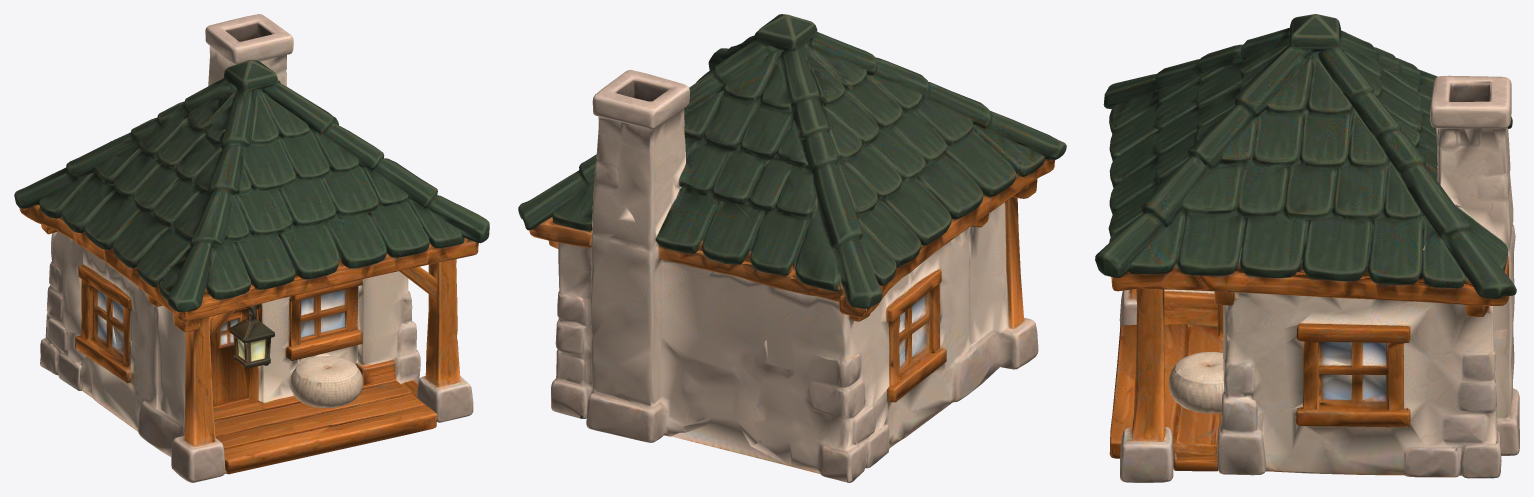
File: green_hip_cottage.glb
The picture shows the model from 3 angles, left to right: view 1: azimuth 30°, elevation 25°; view 2: azimuth 150°, elevation 25°; view 3: azimuth 270°, elevation 25°; orthographic projection. The views are drawn at different scales.
Visible parts, largest first — view 1: green_hip_cottage; view 2: green_hip_cottage; view 3: green_hip_cottage.
Part boxes in pixels (left/top/right/bottom): green_hip_cottage: left=14, top=14, right=489, bottom=482; green_hip_cottage: left=518, top=14, right=1066, bottom=482; green_hip_cottage: left=1095, top=14, right=1519, bottom=482.
Bounding box in the file's own units: 2.49 × 2.4 × 2.38.
Materials: 1 (1 with a texture image).
